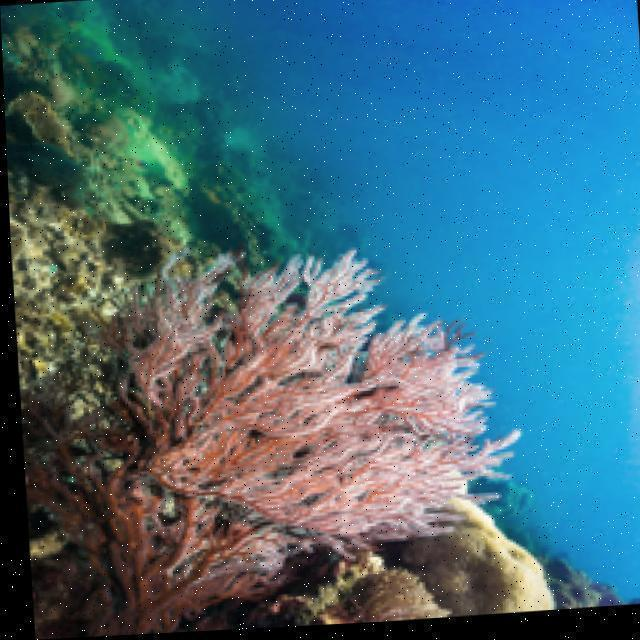Healthy Coral: (68, 218, 528, 570), (304, 476, 612, 628)
